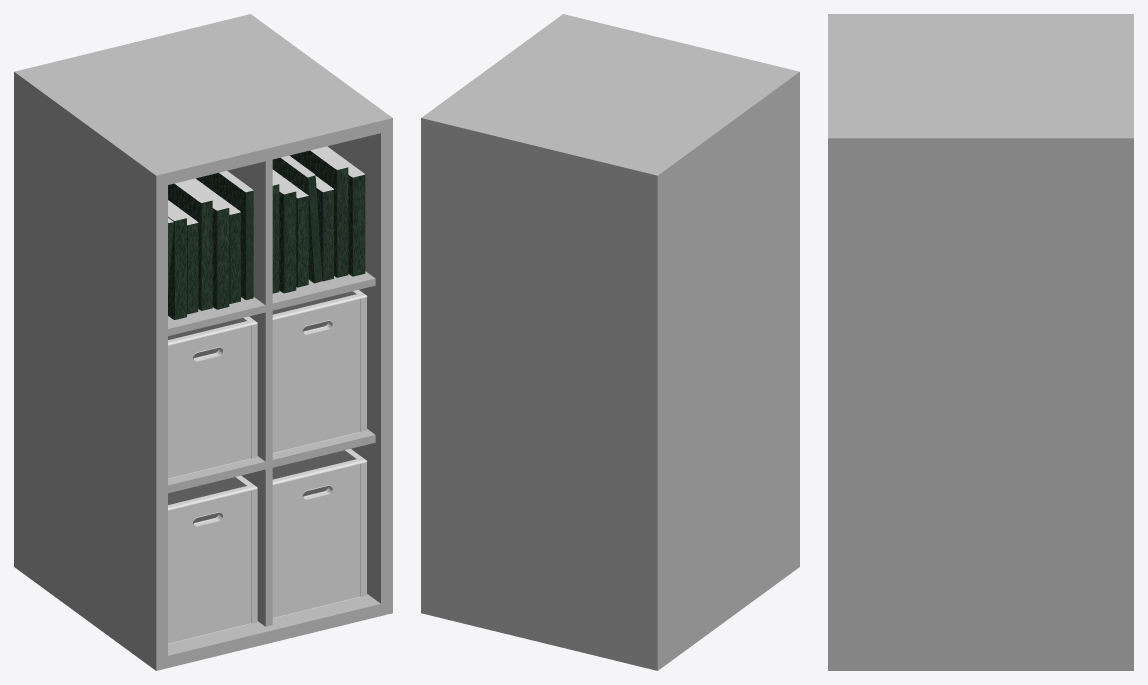
File: Shelf.fbx
3 renders of one model, left to right at view 1: azimuth 30°, elevation 25°; view 2: azimuth 150°, elevation 25°; view 3: azimuth 270°, elevation 25°, orthographic. The views are drawn at different scales.
Parts seen in each view (by area): view 1: 立方体, 立方体.004, 立方体.002, 立方体.003, 立方体.001, 立方体.017, 立方体.005; view 2: 立方体; view 3: 立方体.
Boxes of the visible parts, x1=… form: 立方体: x1=14, y1=14, x2=392, y2=670; 立方体.004: x1=272, y1=449, x2=367, y2=618; 立方体.002: x1=272, y1=289, x2=367, y2=453; 立方体.003: x1=168, y1=475, x2=257, y2=643; 立方体.001: x1=168, y1=316, x2=257, y2=478; 立方体.017: x1=272, y1=146, x2=365, y2=293; 立方体.005: x1=168, y1=171, x2=253, y2=319; 立方体: x1=421, y1=14, x2=799, y2=670; 立方体: x1=828, y1=14, x2=1133, y2=670.
Size of the model in its own units: 100 by 200 by 104.
